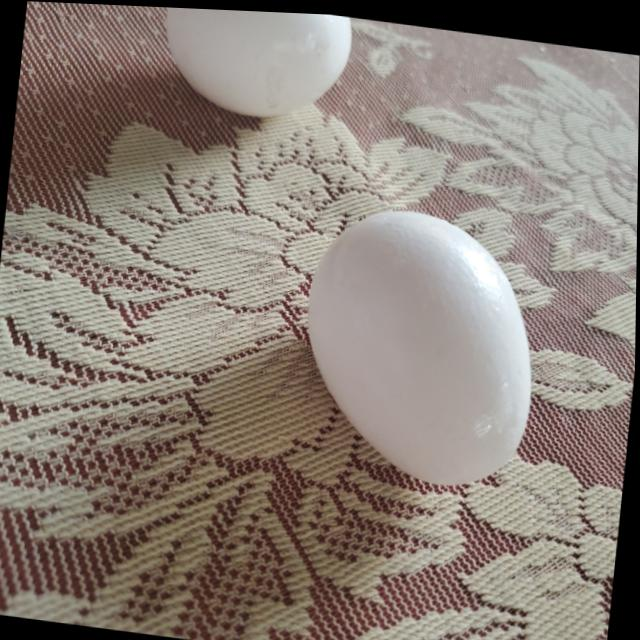egg: (294, 201, 548, 495), (155, 5, 358, 127)
